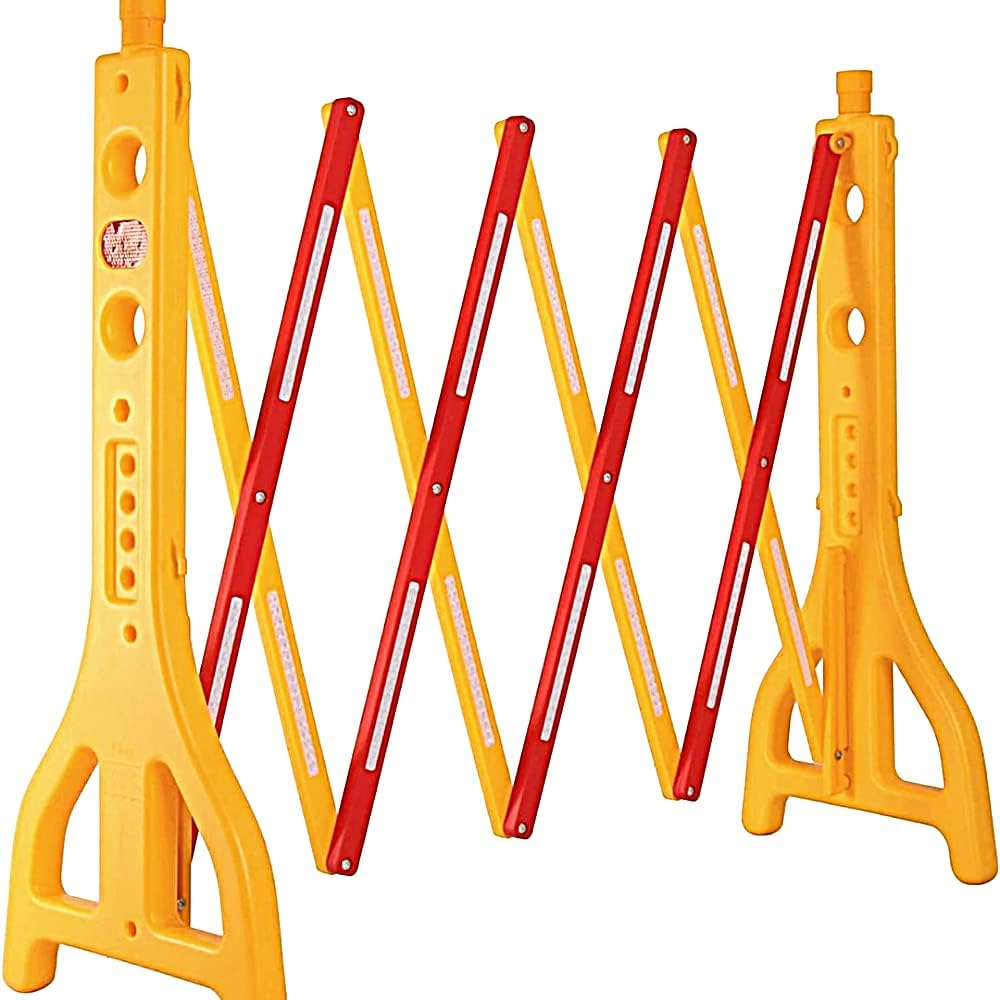Barrier: (15, 13, 992, 985)
